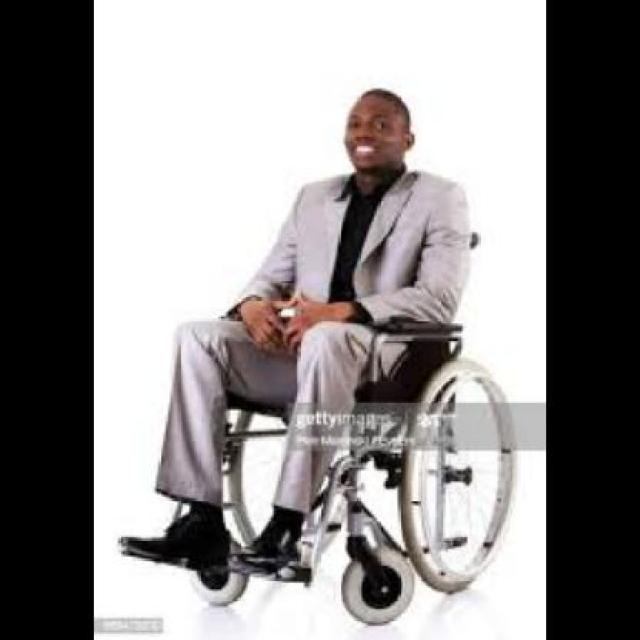wheelchairs: (116, 232, 524, 624)
